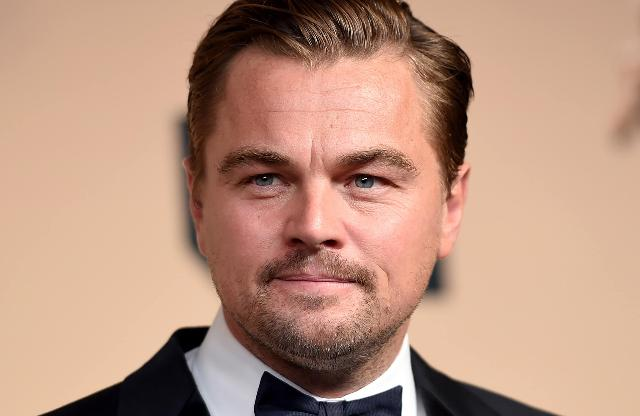forehead: (266, 103, 372, 122)
frown_line: (301, 148, 329, 174)
sad_smile: (376, 264, 392, 286)
